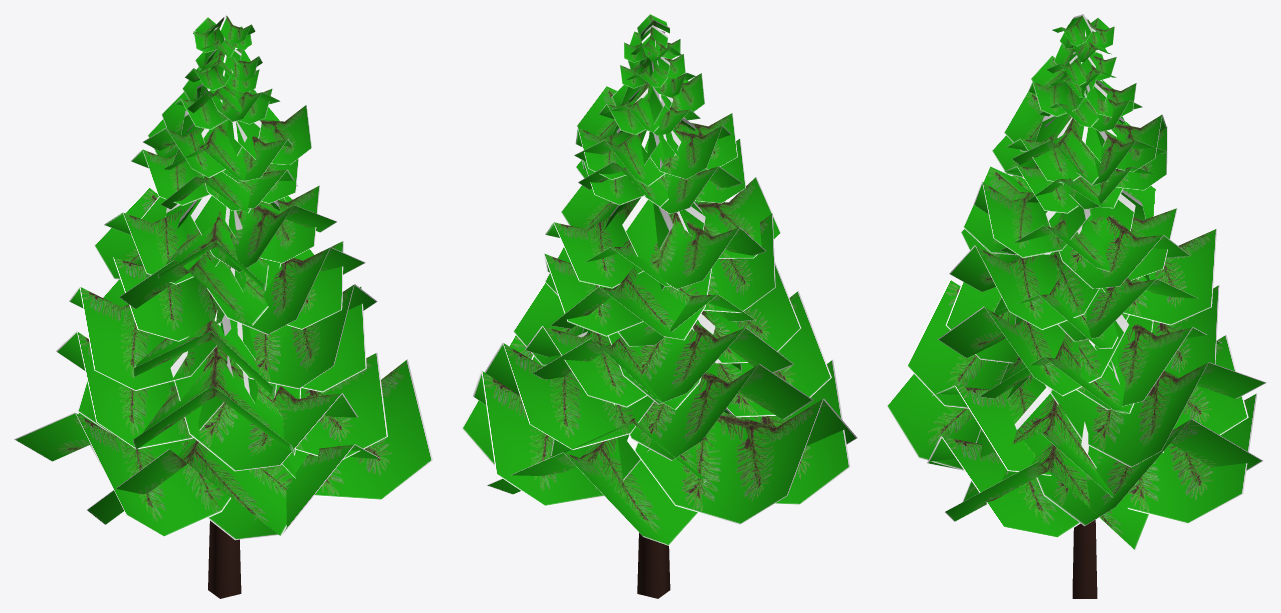
Rendered from PineTree_02.fbx.
3 renders of one model, left to right at view 1: azimuth 30°, elevation 25°; view 2: azimuth 150°, elevation 25°; view 3: azimuth 270°, elevation 25°, orthographic.
Parts seen in each view (by area): view 1: pineLeaf.005, pineLeaf.001, pineLeaf.034, pineLeaf.002, pineLeaf.011, pineLeaf.010, pineLeaf.035, pineLeaf.032, pineLeaf.031, pineLeaf.041, pineLeaf.016, pineLeaf.038 (+24 smaller); view 2: pineLeaf.005, pineLeaf.033, pineLeaf.003, pineLeaf.035, pineLeaf, pineLeaf.011, pineLeaf.017, pineLeaf.036, pineLeaf.015, pineLeaf.032, pineLeaf.002, pineLeaf.009 (+28 smaller); view 3: pineLeaf.033, pineLeaf, pineLeaf.003, pineLeaf.040, pineLeaf.010, pineLeaf.004, pineLeaf.032, pineLeaf.036, pineLeaf.001, pineLeaf.002, pineLeaf.016, pineLeaf.034 (+32 smaller).
Part boxes in pixels (left/top/right/bottom): pineLeaf.005: left=14, top=412, right=230, bottom=537; pineLeaf.001: left=282, top=359, right=432, bottom=500; pineLeaf.034: left=170, top=351, right=357, bottom=471; pineLeaf.002: left=87, top=438, right=308, bottom=536; pineLeaf.011: left=69, top=286, right=231, bottom=390; pineLeaf.010: left=214, top=284, right=377, bottom=388; pineLeaf.035: left=56, top=331, right=233, bottom=449; pineLeaf.032: left=133, top=346, right=301, bottom=455; pineLeaf.031: left=242, top=352, right=387, bottom=459; pineLeaf.041: left=113, top=257, right=241, bottom=341; pineLeaf.016: left=190, top=194, right=337, bottom=272; pineLeaf.038: left=119, top=254, right=281, bottom=325; pineLeaf.005: left=627, top=398, right=857, bottom=524; pineLeaf.033: left=484, top=342, right=654, bottom=449; pineLeaf.003: left=473, top=370, right=649, bottom=506; pineLeaf.035: left=614, top=363, right=813, bottom=460; pineLeaf: left=487, top=437, right=698, bottom=545; pineLeaf.011: left=608, top=322, right=793, bottom=404; pineLeaf.017: left=622, top=196, right=766, bottom=289; pineLeaf.036: left=551, top=267, right=711, bottom=340; pineLeaf.015: left=545, top=197, right=673, bottom=288; pineLeaf.032: left=699, top=291, right=831, bottom=417; pineLeaf.002: left=742, top=360, right=850, bottom=505; pineLeaf.009: left=524, top=326, right=691, bottom=407; pineLeaf.033: left=1045, top=362, right=1266, bottom=467; pineLeaf: left=1081, top=393, right=1257, bottom=523; pineLeaf.003: left=1014, top=387, right=1262, bottom=526; pineLeaf.040: left=949, top=245, right=1099, bottom=329; pineLeaf.010: left=938, top=306, right=1128, bottom=396; pineLeaf.004: left=927, top=436, right=1080, bottom=537; pineLeaf.032: left=906, top=279, right=1030, bottom=408; pineLeaf.036: left=1102, top=229, right=1216, bottom=325; pineLeaf.001: left=945, top=442, right=1163, bottom=550; pineLeaf.002: left=886, top=373, right=980, bottom=470; pineLeaf.016: left=973, top=181, right=1090, bottom=257; pineLeaf.034: left=932, top=375, right=1051, bottom=475.
Bounding box in the file's own units: 182 × 289 × 172.
